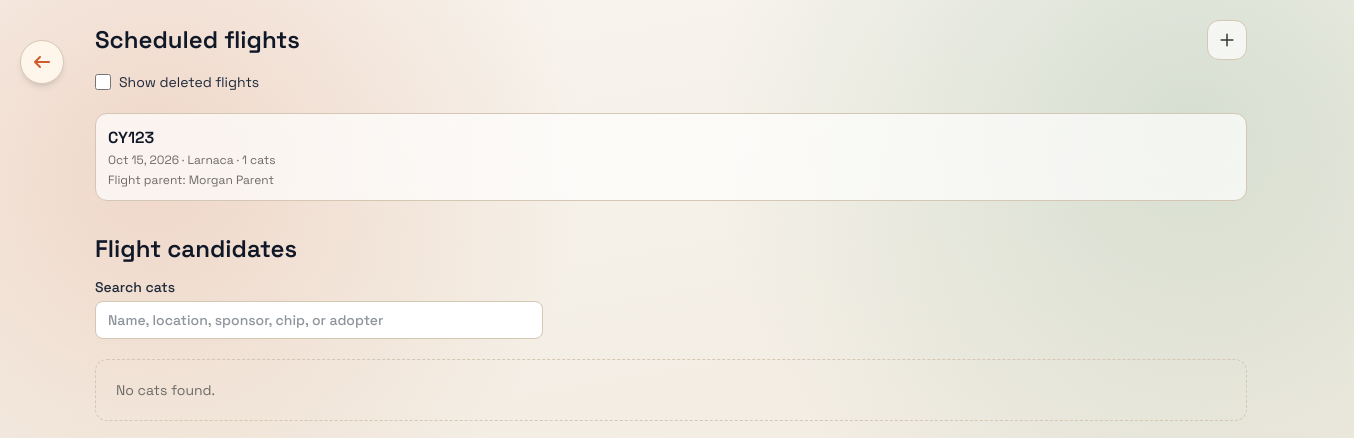
Scenario: FlightsListClient › uses the deleted flights query when the checkbox is selected
Check: the text "CY123" is shown, box [108,127,154,148]
Step 1. Click the checkbox labelled "Show deleted flights" → (103, 82), box [95,74,111,90]
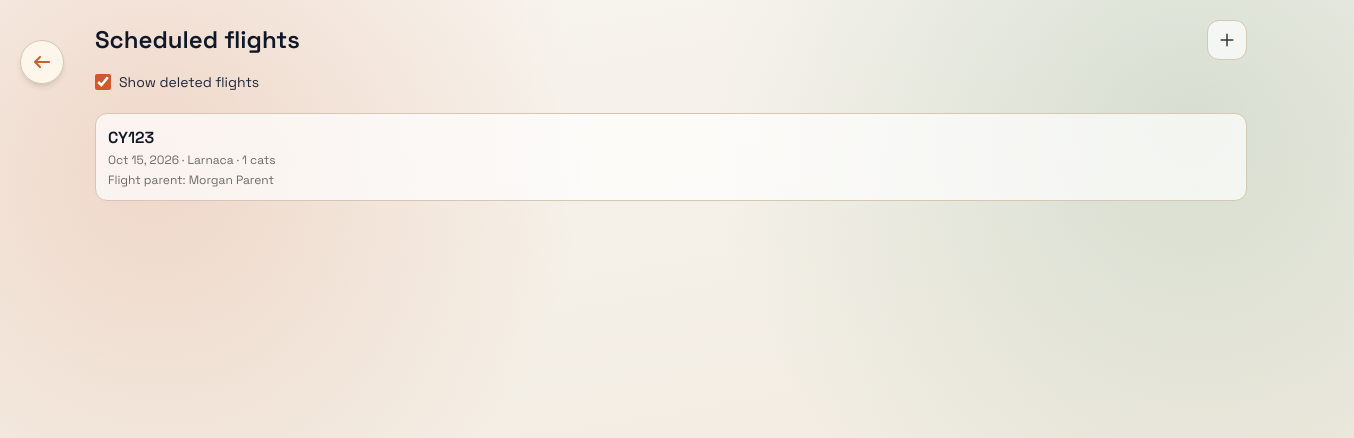
Check: the heading "Flight candidates" is gone
